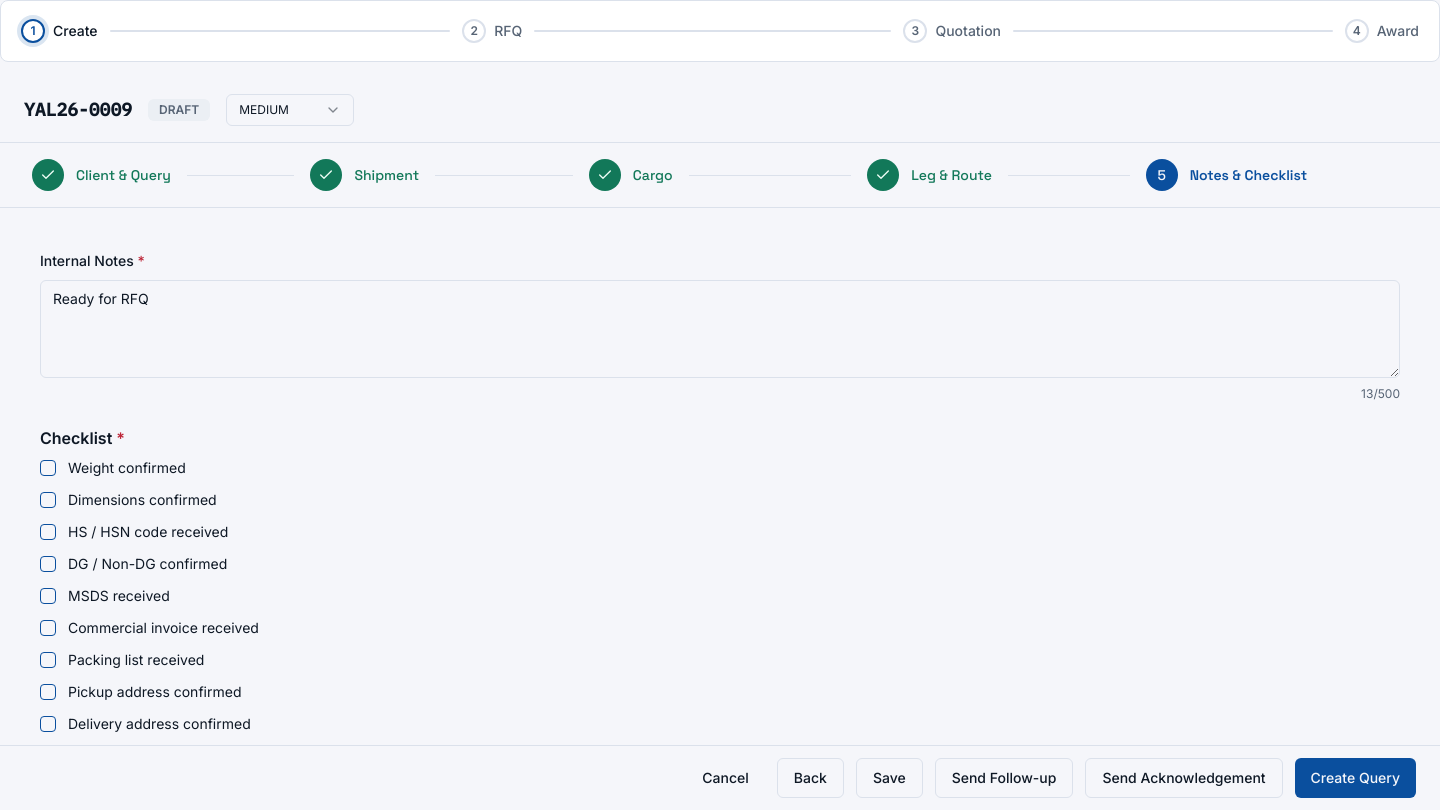
QueryWizardPage › Create Query saves the current step (checklist) before running the gate (S3.3)
Step 1. Click the checkbox named "Weight confirmed" → (48, 468), box [40,460,56,476]
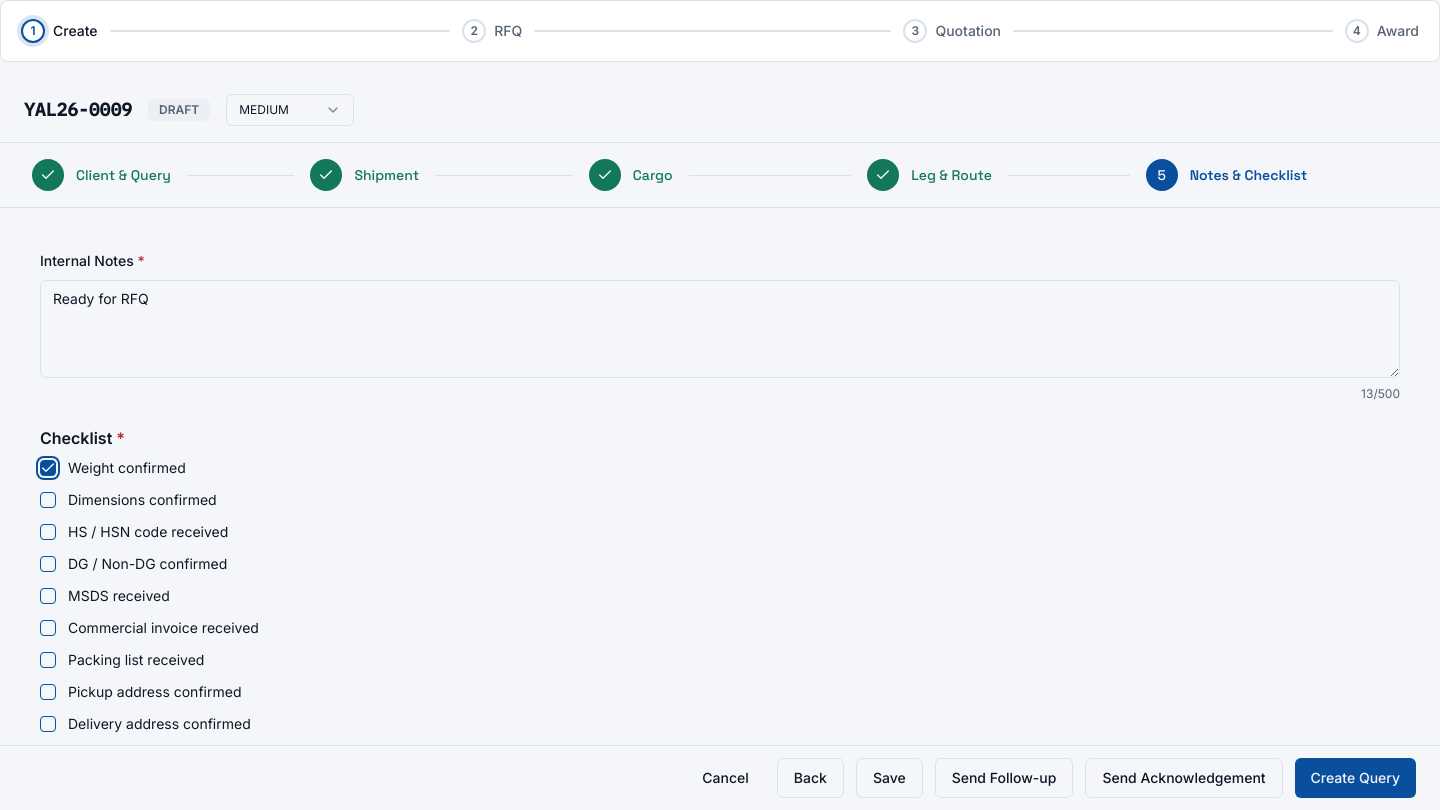
Step 2. Click the checkbox named "Dimensions confirmed" → (48, 500), box [40,492,56,508]
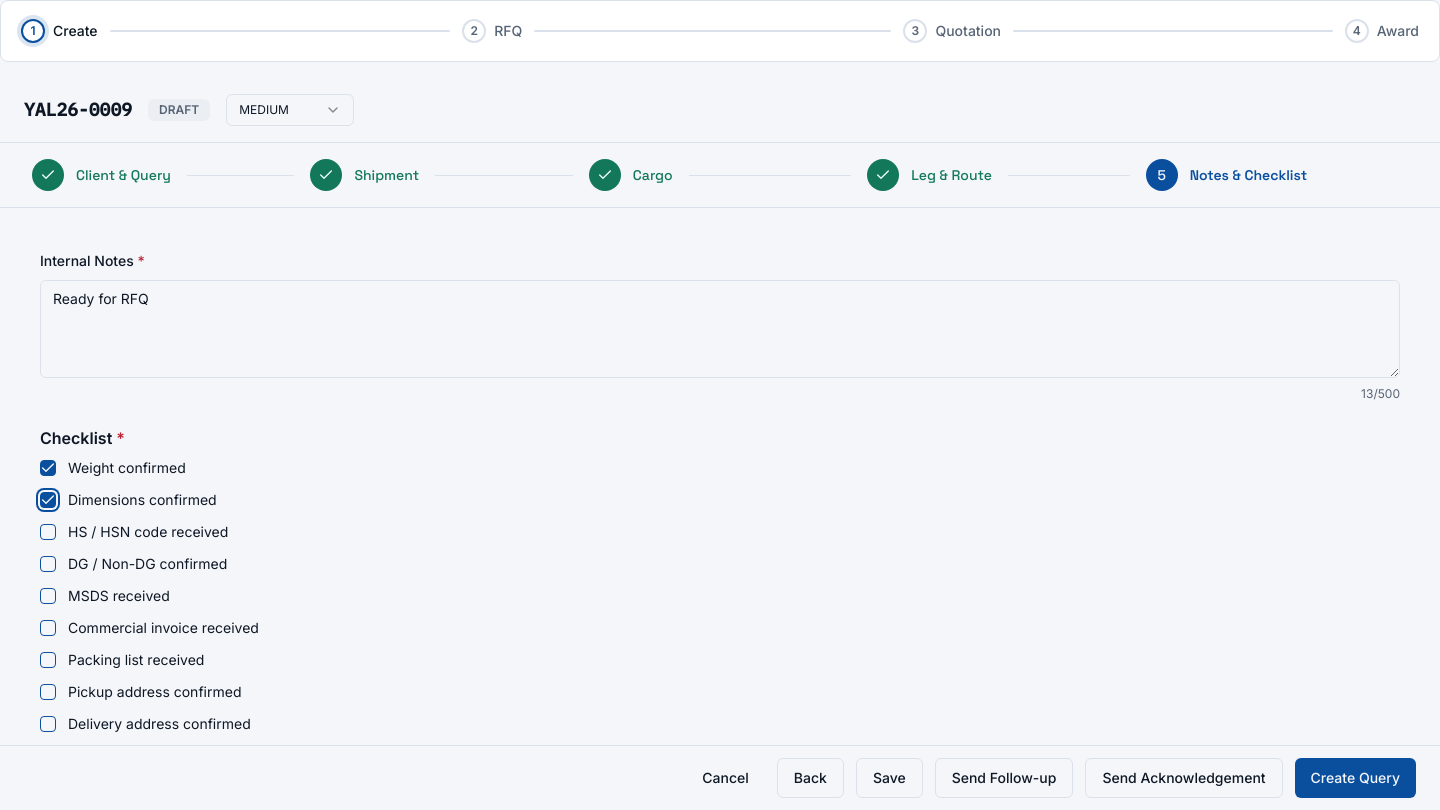
Step 3. Click the button "Create Query" → (1355, 778), box [1295,758,1416,798]
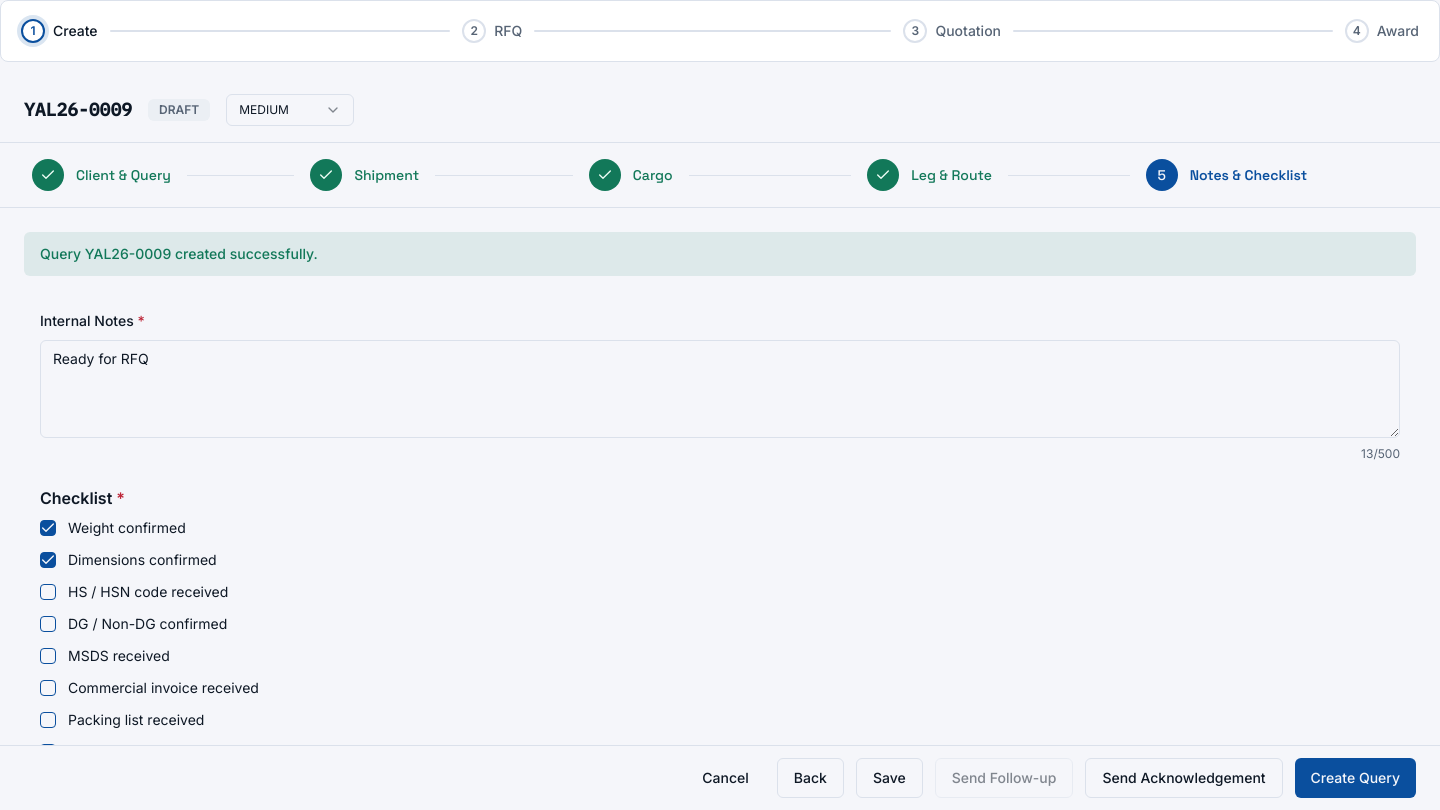
Expected: the text "Query YAL26-0009 created successfully." is shown, [24,232,1416,276]
